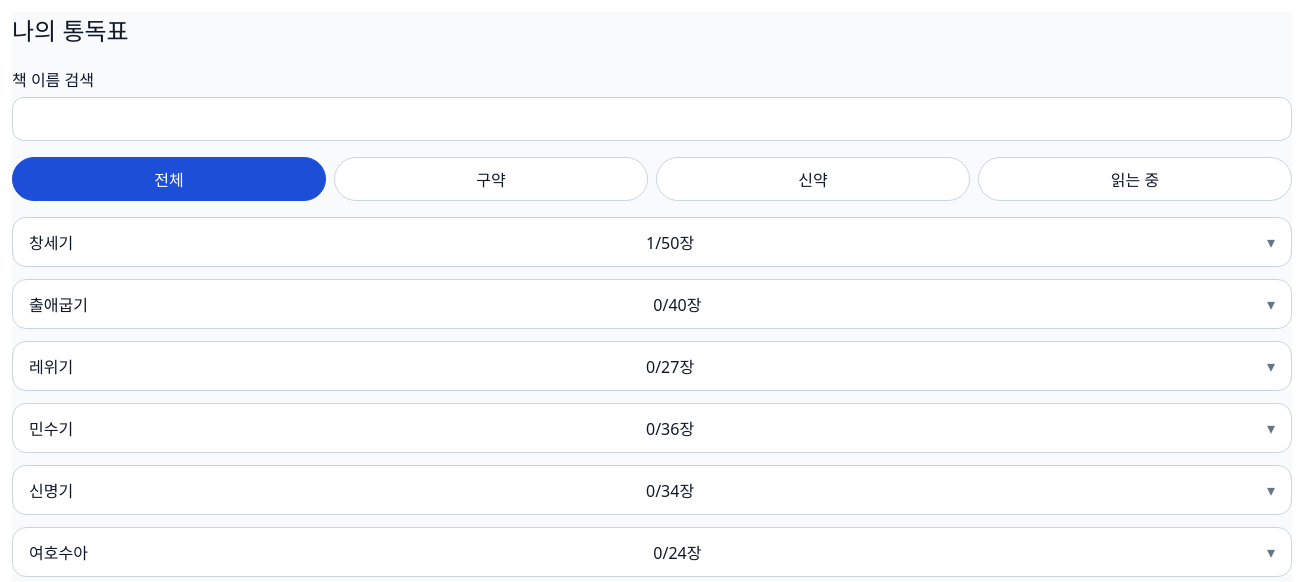
Test case: TrackerPage › 장 횟수 배지와 상세를 보여주고 증가·감소 콜백을 정확히 전달한다
Step 1. Click the button with aria-label "창세기, 1/50장, 펼치기" → (652, 242), box [13,218,1291,266]
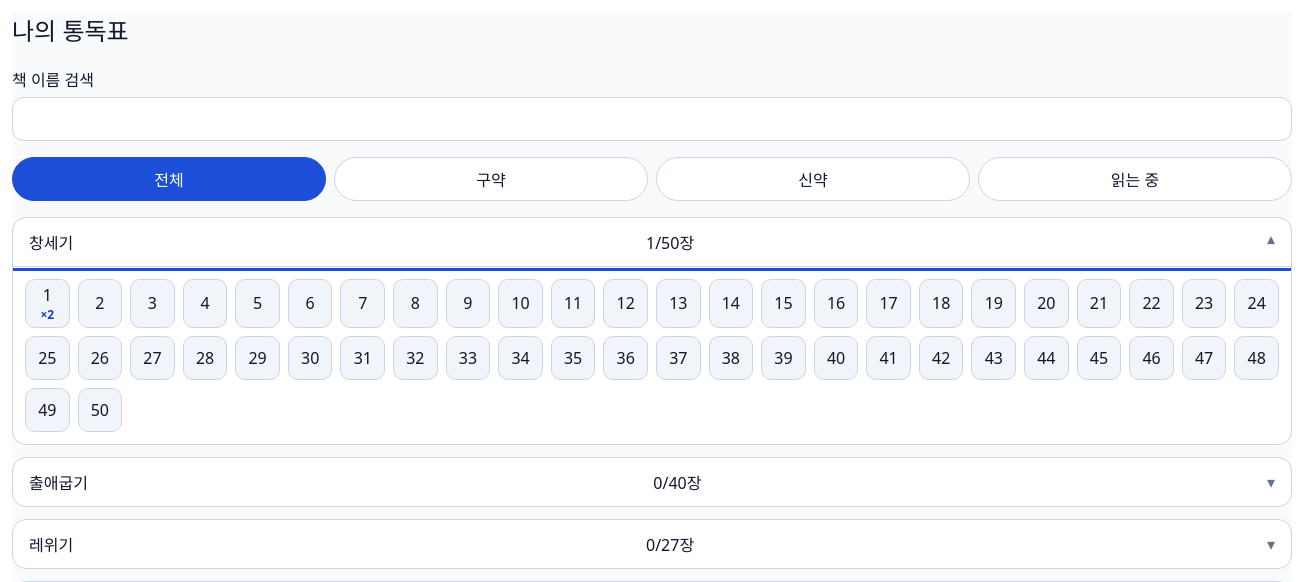
Expected: the text "×2" is shown, [40,306,54,323]
Step 2. Click the button named "창세기 1장, 2회 읽음" → (47, 303), box [25,279,70,328]
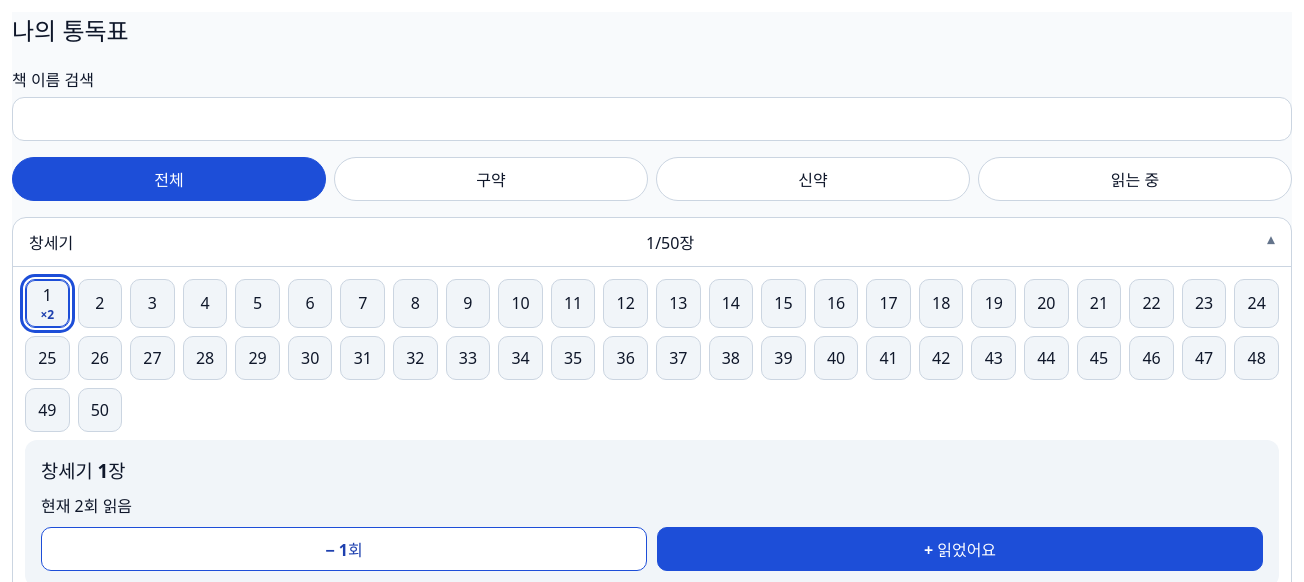
Expected: the text "현재 2회 읽음" is shown, [41,495,132,517]
Step 3. Click the button with aria-label "창세기 1장 + 읽었어요" → (960, 549), box [657,527,1263,571]
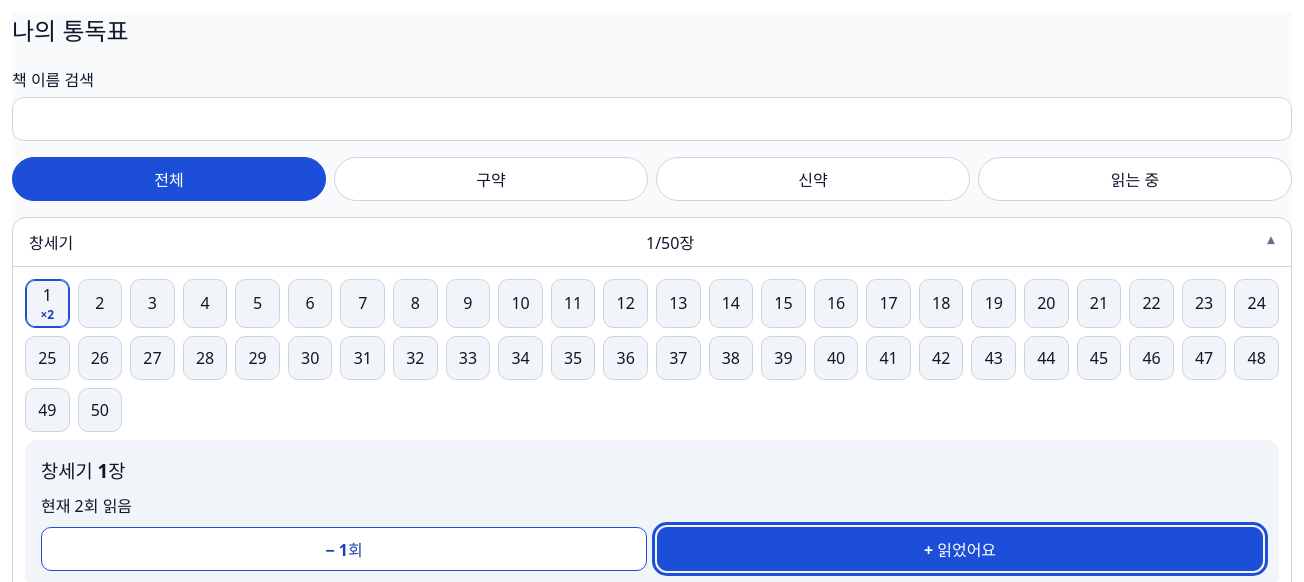
Step 4. Click the button named "창세기 1장 -1회" → (344, 549), box [41,527,647,571]
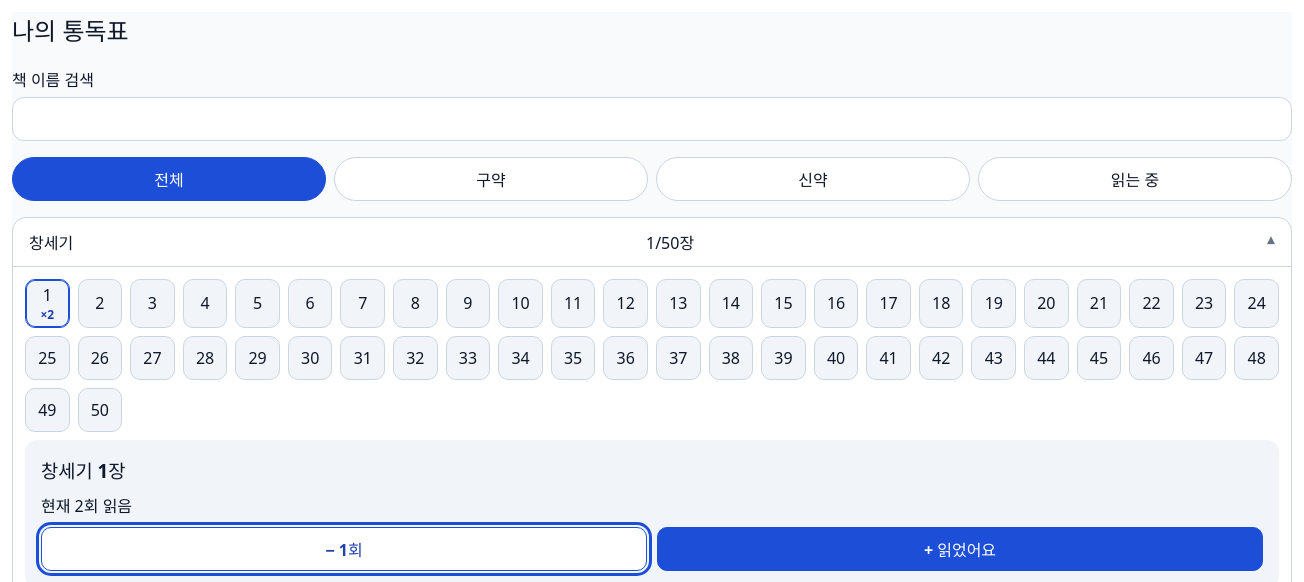
Step 5. Click the button named "창세기 2장, 읽지 않음" → (100, 303), box [78,279,122,328]
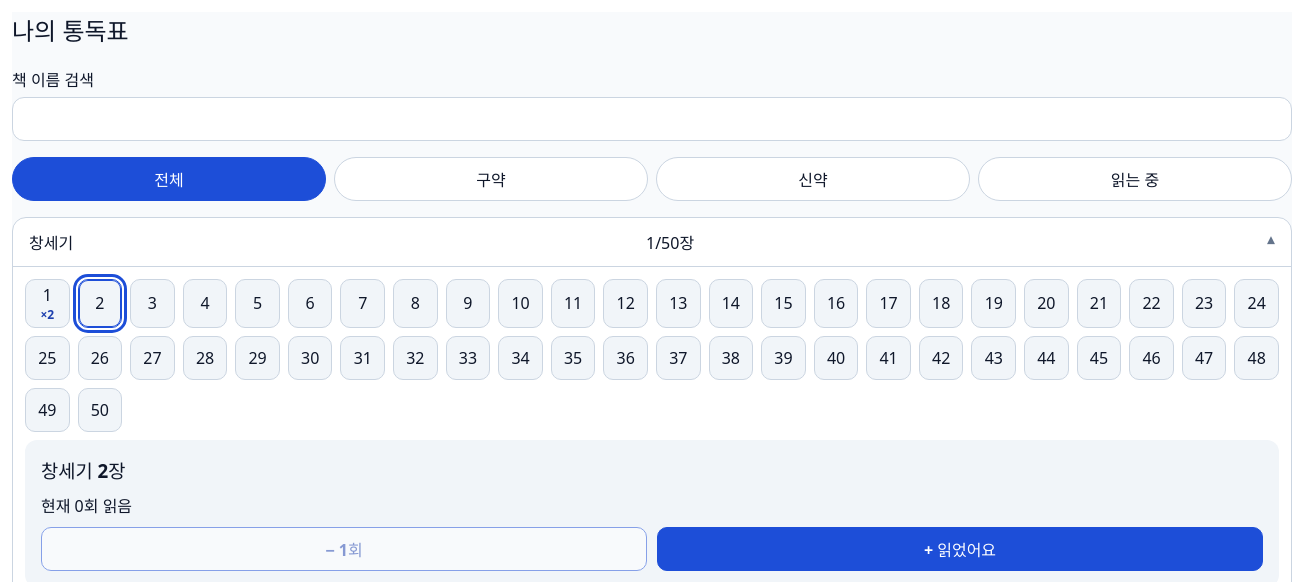
Expected: the button named "창세기 2장 -1회" is disabled, [41,527,647,571]
